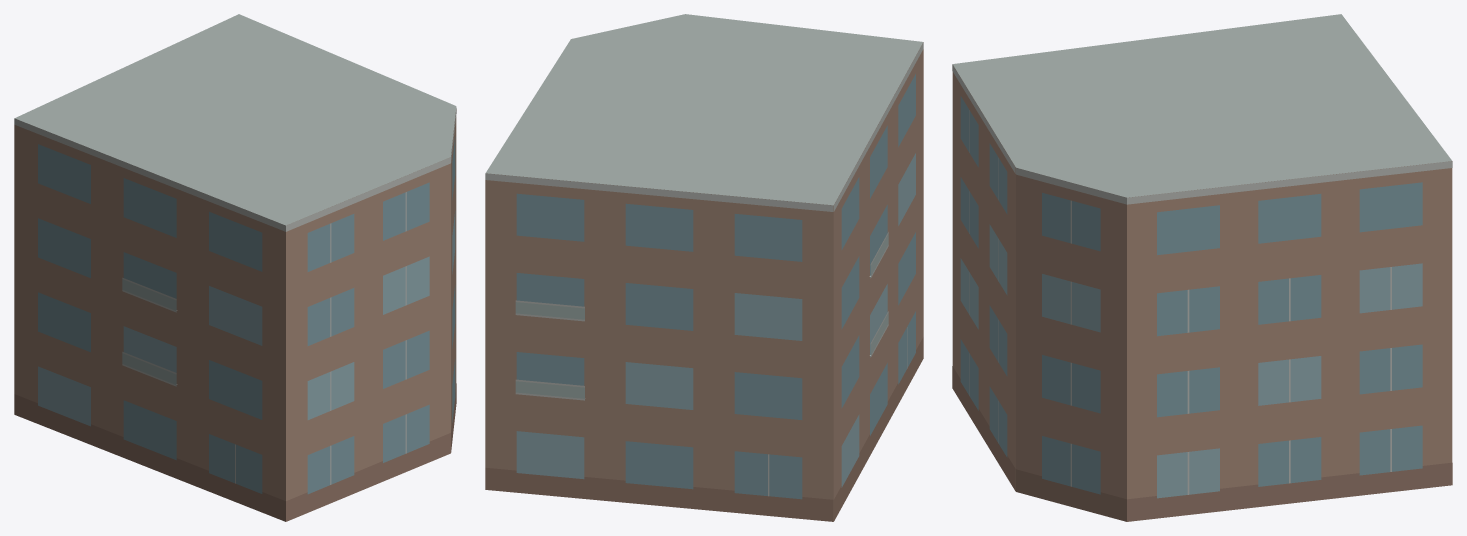
Rendered from survey-upis-32860636.glb.
3 views of the same model, side by side, from view 1: azimuth 30°, elevation 25°; view 2: azimuth 150°, elevation 25°; view 3: azimuth 270°, elevation 25° (orthographic). The views are drawn at different scales.
Visible parts, largest first — view 1: survey-upis-32860636.tmp; view 2: survey-upis-32860636.tmp; view 3: survey-upis-32860636.tmp.
Boxes of the visible parts, x1=… form: survey-upis-32860636.tmp: x1=14, y1=14, x2=456, y2=521; survey-upis-32860636.tmp: x1=485, y1=14, x2=923, y2=521; survey-upis-32860636.tmp: x1=952, y1=14, x2=1452, y2=521.
Bounding box in the file's own units: 13.86 × 11.4 × 15.94.
